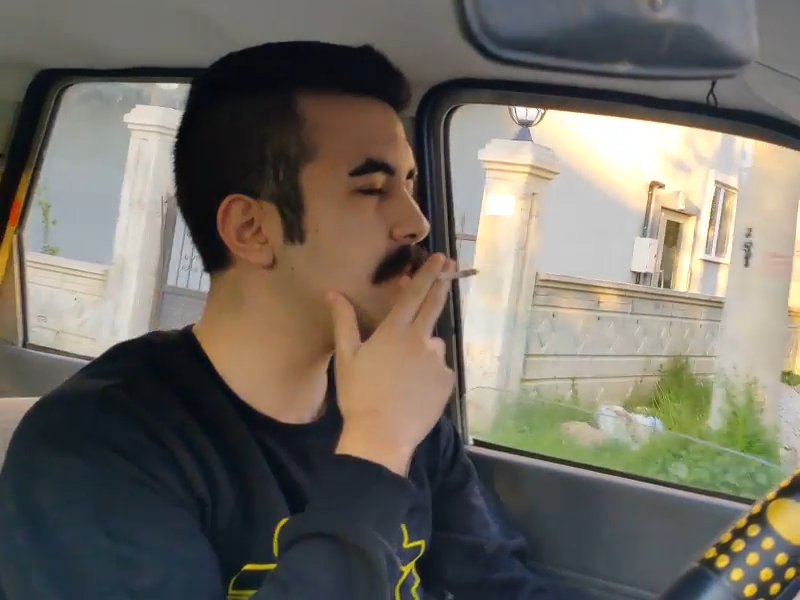sigara: (425, 263, 484, 285)
